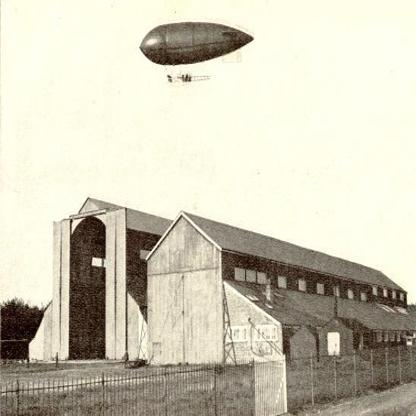Airship: (137, 17, 260, 97)
